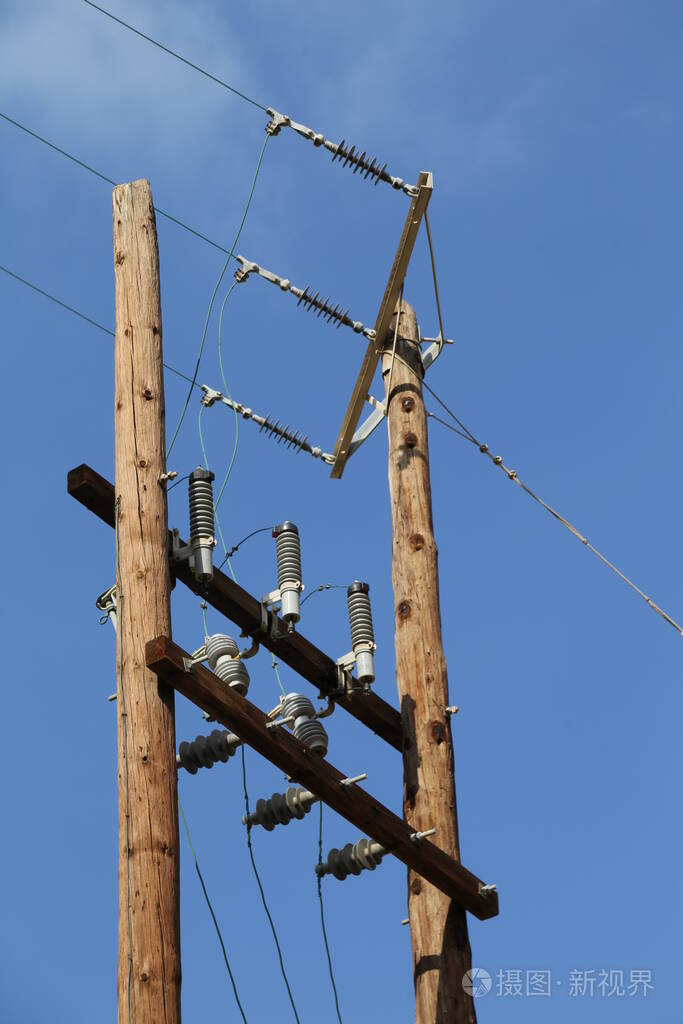insulator: (331, 137, 388, 186), (293, 282, 351, 329), (327, 835, 383, 883), (179, 730, 239, 772), (252, 787, 307, 830), (257, 413, 306, 457)
